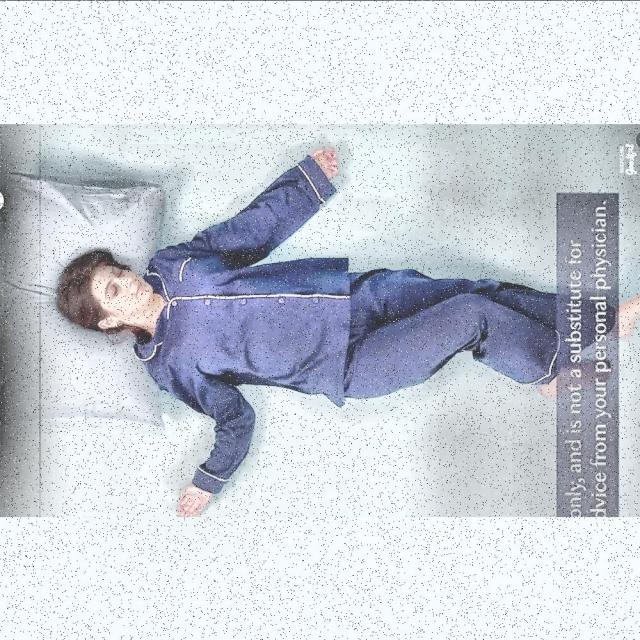Supine: (58, 148, 570, 515)
